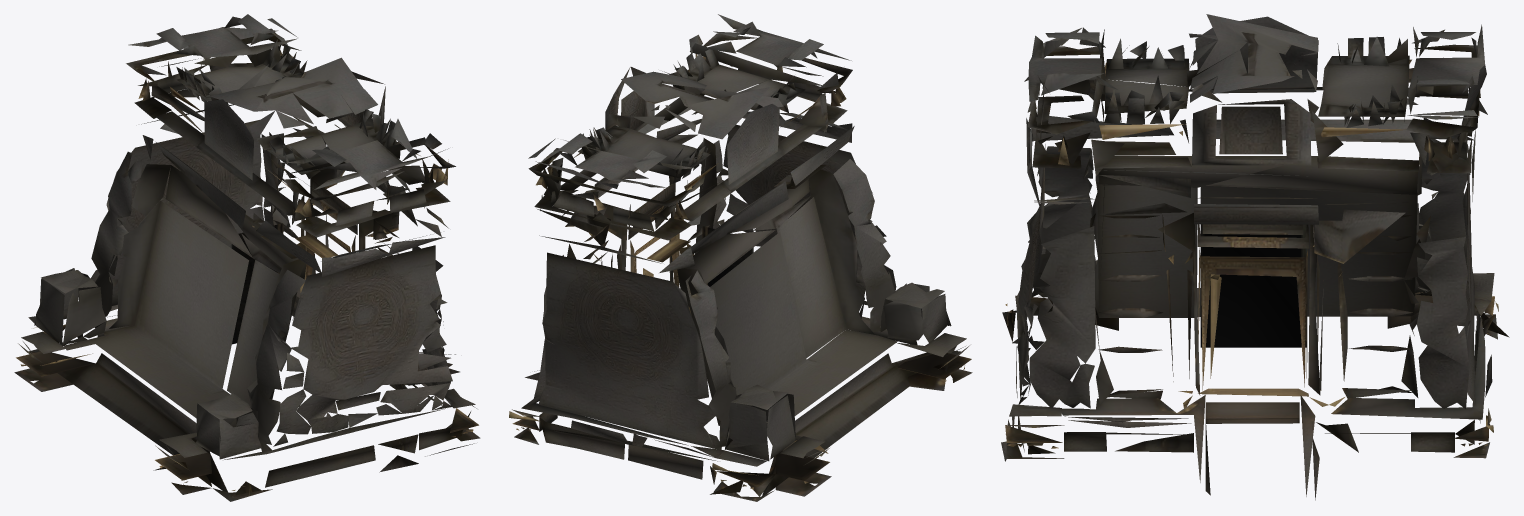
Rendered from ch7_archive_facade_LOD3.glb.
The picture shows the model from 3 angles, left to right: view 1: azimuth 30°, elevation 25°; view 2: azimuth 150°, elevation 25°; view 3: azimuth 270°, elevation 25°; orthographic projection. The views are drawn at different scales.
Visible parts, largest first — view 1: tripo_node_483b1887-9006-4e64-bec1-bd8683a9b88a; view 2: tripo_node_483b1887-9006-4e64-bec1-bd8683a9b88a; view 3: tripo_node_483b1887-9006-4e64-bec1-bd8683a9b88a.
Part boxes in pixels (bbox=[...]): tripo_node_483b1887-9006-4e64-bec1-bd8683a9b88a: bbox=[14, 14, 480, 501]; tripo_node_483b1887-9006-4e64-bec1-bd8683a9b88a: bbox=[509, 14, 972, 501]; tripo_node_483b1887-9006-4e64-bec1-bd8683a9b88a: bbox=[1001, 14, 1509, 500].
Size of the model in its own units: 0.956 by 0.8359 by 1.02.
Materials: 1 (1 with a texture image).
